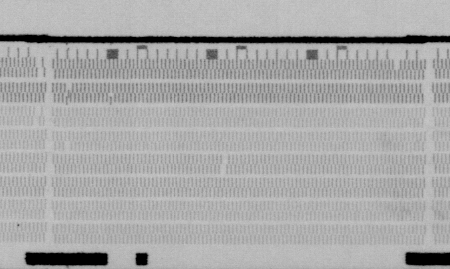Broken hole: (33, 56, 47, 81), (30, 106, 42, 128), (219, 153, 230, 177), (60, 140, 74, 153), (391, 58, 401, 71)
Oblique printing: (62, 82, 73, 106), (105, 92, 117, 106)
